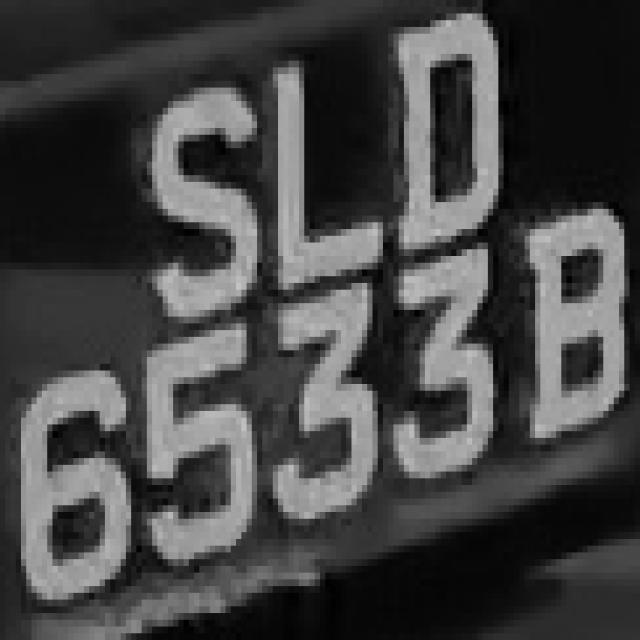3: (246, 290, 378, 552), (378, 236, 509, 492)
5: (142, 303, 272, 593)
6: (16, 337, 131, 626)
B: (509, 195, 640, 465)
D: (388, 13, 520, 250)
L: (247, 40, 383, 290)
S: (126, 60, 252, 344)
